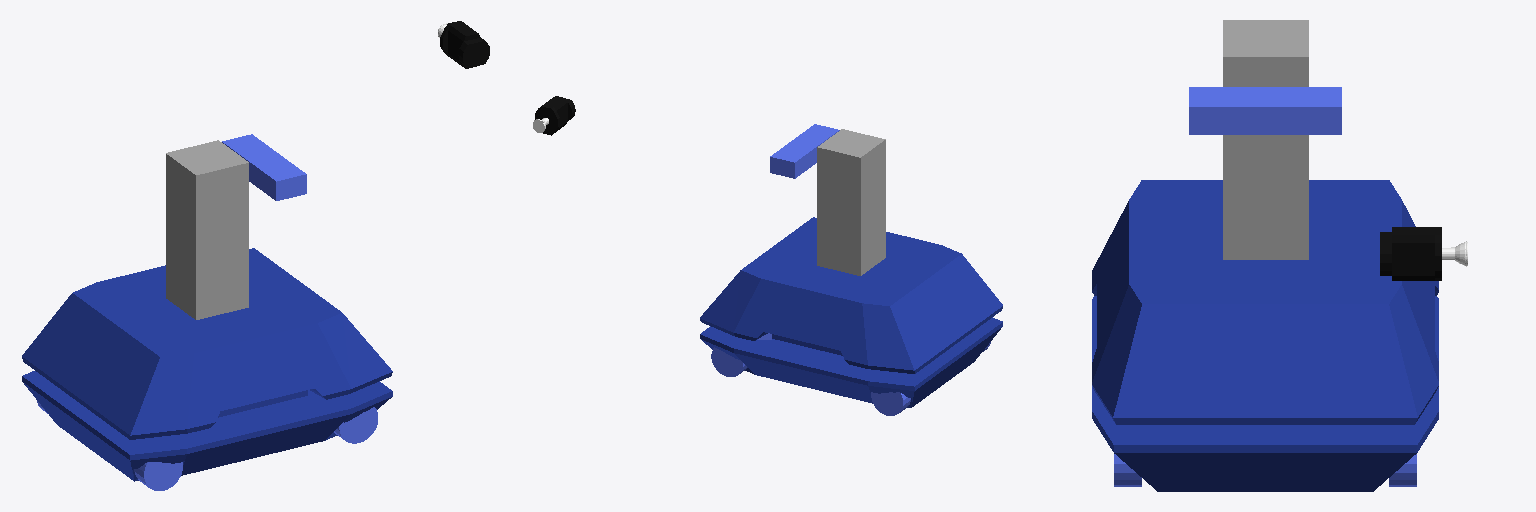
robot.urdf — moma_robot:
<?xml version="1.0" ?>
<!-- =================================================================================== -->
<!-- |    This document was autogenerated by xacro from ./robot/moma_robot.xacro       | -->
<!-- |    EDITING THIS FILE BY HAND IS NOT RECOMMENDED                                 | -->
<!-- =================================================================================== -->
<robot name="moma_robot" xmlns:xacro="http://ros.org/wiki/xacro">
  <material name="Blue">
    <color rgba="0.0 0.0 0.8 1.0"/>
  </material>
  <material name="LightBlue">
    <color rgba="0.4 0.5 1.0 1.0"/>
  </material>
  <material name="DeepBlue">
    <color rgba="0.2 0.3 0.7 1.0"/>
  </material>
  <material name="Green">
    <color rgba="0.0 0.8 0.0 1.0"/>
  </material>
  <material name="Grey">
    <color rgba="0.7 0.7 0.7 1.0"/>
  </material>
  <material name="Grey2">
    <color rgba="0.9 0.9 0.9 1.0"/>
  </material>
  <material name="Red">
    <color rgba="0.8 0.0 0.0 1.0"/>
  </material>
  <material name="White">
    <color rgba="1.0 1.0 1.0 1.0"/>
  </material>
  <material name="Black">
    <color rgba="0.1 0.1 0.1 1.0"/>
  </material>
  <material name="LightGrey">
    <color rgba="0.6 0.6 0.6 1.0"/>
  </material>
  <material name="Caster">
    <texture filename="package://pr2_description/materials/textures/pr2_caster_texture.png"/>
  </material>
  <!-- lidar -->
  <!-- global perception camera - Kinect2 -->
  <!-- Eye in hand - RealSense SR300 -->
  <!-- Inertia parameters -->
  <!-- This mass might be incorrect -->
  <!-- Kinematic model -->
  <!-- Properties from urcontrol.conf -->
  <!--
    DH for UR5:
    a = [0.00000, -0.42500, -0.39225,  0.00000,  0.00000,  0.0000]
    d = [0.089159,  0.00000,  0.00000,  0.10915,  0.09465,  0.0823]
    alpha = [ 1.570796327, 0, 0, 1.570796327, -1.570796327, 0 ]
    q_home_offset = [0, -1.570796327, 0, -1.570796327, 0, 0]
    joint_direction = [-1, -1, 1, 1, 1, 1]
    mass = [3.7000, 8.3930, 2.2750, 1.2190, 1.2190, 0.1879]
    center_of_mass = [ [0, -0.02561, 0.00193], [0.2125, 0, 0.11336], [0.11993, 0.0, 0.0265], [0, -0.0018, 0.01634], [0, 0.0018,0.01634], [0, 0, -0.001159] ]
  -->
  <!-- Arbitrary offsets for shoulder/elbow joints -->
  <!-- measured from model -->
  <!-- measured from model -->
  <!-- link lengths used in model -->
  <!--property name="shoulder_height" value="0.089159" /-->
  <!--property name="shoulder_offset" value="0.13585" /-->
  <!-- shoulder_offset - elbow_offset + wrist_1_length = 0.10915 -->
  <!--property name="upper_arm_length" value="0.42500" /-->
  <!--property name="elbow_offset" value="0.1197" /-->
  <!-- CAD measured -->
  <!--property name="forearm_length" value="0.39225" /-->
  <!--property name="wrist_1_length" value="0.093" /-->
  <!-- CAD measured -->
  <!--property name="wrist_2_length" value="0.09465" /-->
  <!-- In CAD this distance is 0.930, but in the spec it is 0.09465 -->
  <!--property name="wrist_3_length" value="0.0823" /-->
  <!-- manually measured -->
  <!-- manually measured -->
  <!-- manually measured -->
  <!-- manually measured -->
  <!-- manually measured -->
  <!-- lidar -->
  <!-- global perception camera - Kinect2 -->
  <!-- Eye in hand - RealSense SR300 -->
  <!-- <xacro:include filename="$(find ur_description)/urdf/ur5.urdf.xacro" /> -->
  <!-- <xacro:ur5_robot prefix="" joint_limited="false"/> -->
  <!--   <joint name="arm_joint" type="fixed">
  <parent link="moma_base_link" />
  <child link = "base_link" />
  <origin xyz="0.0 0.0 -0.38" rpy="0.0 0.0 0.0" />
</joint> -->
  <link name="base_footprint">
    <visual>
      <geometry>
        <mesh filename="package://robot_bringup/description/meshes/moma_model_mesh/moma_mobile_base_visual.dae"/>
      </geometry>
      <origin rpy="0 0 3.14159265359" xyz="0.0 0.0 0.0"/>
      <material name="DeepBlue"/>
    </visual>
    <collision>
      <geometry>
        <mesh filename="package://robot_bringup/description/meshes/moma_model_mesh/moma_mobile_base_collision.stl"/>
      </geometry>
      <origin rpy="0 0 0" xyz="0.0 0.0 0.0"/>
    </collision>
  </link>
  <joint name="fl_wheel_joint" type="fixed">
    <origin rpy="0 0 0" xyz="0.2575 0.2235 0.06"/>
    <parent link="base_footprint"/>
    <child link="fl_wheel_link"/>
    <axis xyz="0 1 0"/>
  </joint>
  <link name="fl_wheel_link">
    <visual>
      <geometry>
        <mesh filename="package://robot_bringup/description/meshes/moma_model_mesh/moma_wheel_visual.dae"/>
      </geometry>
      <origin rpy="0 0 0" xyz="0.0 0.0 0.0"/>
      <material name="LightBlue"/>
    </visual>
    <collision>
      <geometry>
        <cylinder length="0.045" radius="0.052"/>
      </geometry>
      <origin rpy="1.57079632679 0 0" xyz="0.0 0.0 0.0"/>
    </collision>
  </link>
  <joint name="fr_wheel_joint" type="fixed">
    <origin rpy="0 0 0" xyz="0.2575 -0.2235 0.06"/>
    <parent link="base_footprint"/>
    <child link="fr_wheel_link"/>
    <axis xyz="0 1 0"/>
  </joint>
  <link name="fr_wheel_link">
    <visual>
      <geometry>
        <mesh filename="package://robot_bringup/description/meshes/moma_model_mesh/moma_wheel_visual.dae"/>
      </geometry>
      <origin rpy="0 0 0" xyz="0.0 0.0 0.0"/>
      <material name="LightBlue"/>
    </visual>
    <collision>
      <geometry>
        <cylinder length="0.045" radius="0.052"/>
      </geometry>
      <origin rpy="1.57079632679 0 0" xyz="0.0 0.0 0.0"/>
    </collision>
  </link>
  <joint name="bl_wheel_joint" type="fixed">
    <origin rpy="0 0 0" xyz="-0.2575 0.2235 0.06"/>
    <parent link="base_footprint"/>
    <child link="bl_wheel_link"/>
    <axis xyz="0 1 0"/>
  </joint>
  <link name="bl_wheel_link">
    <visual>
      <geometry>
        <mesh filename="package://robot_bringup/description/meshes/moma_model_mesh/moma_wheel_visual.dae"/>
      </geometry>
      <origin rpy="0 0 0" xyz="0.0 0.0 0.0"/>
      <material name="LightBlue"/>
    </visual>
    <collision>
      <geometry>
        <cylinder length="0.045" radius="0.052"/>
      </geometry>
      <origin rpy="1.57079632679 0 0" xyz="0.0 0.0 0.0"/>
    </collision>
  </link>
  <joint name="br_wheel_joint" type="fixed">
    <origin rpy="0 0 0" xyz="-0.2575 -0.2235 0.06"/>
    <parent link="base_footprint"/>
    <child link="br_wheel_link"/>
    <axis xyz="0 1 0"/>
  </joint>
  <link name="br_wheel_link">
    <visual>
      <geometry>
        <mesh filename="package://robot_bringup/description/meshes/moma_model_mesh/moma_wheel_visual.dae"/>
      </geometry>
      <origin rpy="0 0 0" xyz="0.0 0.0 0.0"/>
      <material name="LightBlue"/>
    </visual>
    <collision>
      <geometry>
        <cylinder length="0.045" radius="0.052"/>
      </geometry>
      <origin rpy="1.57079632679 0 0" xyz="0.0 0.0 0.0"/>
    </collision>
  </link>
  <joint name="F_lidar_joint" type="fixed">
    <parent link="base_footprint"/>
    <child link="F_lidar_link"/>
    <origin rpy="3.14159265359 0.0 0.628318530716" xyz="0.181 0.17285 0.13625"/>
  </joint>
  <link name="F_lidar_link">
    <visual>
      <geometry>
        <box size="0.04 0.04 0.08"/>
      </geometry>
      <origin rpy="0 0 0" xyz="0.0 0.0 0.0"/>
      <material name="LightBlue"/>
    </visual>
    <collision>
      <geometry>
        <box size="0.04 0.04 0.08"/>
      </geometry>
      <origin rpy="0 0 0" xyz="0.0 0.0 0.0"/>
      <material name="LightBlue"/>
    </collision>
  </link>
  <joint name="B_lidar_joint" type="fixed">
    <parent link="base_footprint"/>
    <child link="B_lidar_link"/>
    <origin rpy="3.14159265359 0.0 -2.51327412286" xyz="-0.181 -0.17285 0.13625"/>
  </joint>
  <link name="B_lidar_link">
    <visual>
      <geometry>
        <box size="0.04 0.04 0.08"/>
      </geometry>
      <origin rpy="0 0 0" xyz="0.0 0.0 0.0"/>
      <material name="LightBlue"/>
    </visual>
    <collision>
      <geometry>
        <box size="0.04 0.04 0.08"/>
      </geometry>
      <origin rpy="0 0 0" xyz="0.0 0.0 0.0"/>
      <material name="LightBlue"/>
    </collision>
  </link>
  <joint name="lift_base_joint" type="fixed">
    <parent link="base_footprint"/>
    <child link="lift_fix_link"/>
    <origin rpy="0.0 0.0 0.0" xyz="0.0 0.0 0.318"/>
  </joint>
  <link name="lift_fix_link">
    <visual>
      <geometry>
        <box size="0.10 0.10 0.37"/>
      </geometry>
      <origin rpy="0 0 0" xyz="0.0 0.0 0.185"/>
      <material name="Grey"/>
    </visual>
    <collision>
      <geometry>
        <box size="0.10 0.10 0.37"/>
      </geometry>
      <origin rpy="0 0 0" xyz="0.0 0.0 0.185"/>
    </collision>
  </link>
  <joint name="lift_move_joint" type="prismatic">
    <parent link="lift_fix_link"/>
    <child link="lift_move_link"/>
    <origin rpy="0.0 0.0 0.0" xyz="0.0 0.0 0.0"/>
    <limit effort="250" lower="0.0" upper="0.25" velocity="0.5"/>
    <axis xyz="0 0 1"/>
  </joint>
  <link name="lift_move_link">
    <visual>
      <geometry>
        <box size="0.14 0.14 0.37"/>
      </geometry>
      <origin rpy="0 0 0" xyz="0.0 0.0 0.185"/>
      <material name="Grey"/>
    </visual>
    <collision>
      <geometry>
        <box size="0.14 0.14 0.37"/>
      </geometry>
      <origin rpy="0 0 0" xyz="0.0 0.0 0.185"/>
    </collision>
  </link>
  <joint name="global_camera_joint" type="fixed">
    <parent link="lift_move_link"/>
    <child link="global_camera_link"/>
    <origin rpy="0.0 0.0 0.0" xyz="0.15 0.0 0.31"/>
  </joint>
  <link name="global_camera_link">
    <visual>
      <geometry>
        <box size="0.08 0.25 0.05"/>
      </geometry>
      <origin rpy="0 0 0" xyz="0.0 0.0 0.0"/>
      <material name="LightBlue"/>
    </visual>
    <collision>
      <geometry>
        <box size="0.08 0.25 0.05"/>
      </geometry>
      <origin rpy="0 0 0" xyz="0.0 0.0 0.0"/>
      <material name="LightBlue"/>
    </collision>
  </link>
  <link name="base_link">
    <visual>
      <geometry>
        <mesh filename="package://ur_description/meshes/ur5/visual/base.dae"/>
      </geometry>
      <material name="LightGrey">
        <color rgba="0.7 0.7 0.7 1.0"/>
      </material>
    </visual>
    <collision>
      <geometry>
        <mesh filename="package://ur_description/meshes/ur5/collision/base.stl"/>
      </geometry>
    </collision>
    <inertial>
      <mass value="4.0"/>
      <origin rpy="0 0 0" xyz="0.0 0.0 0.0"/>
      <inertia ixx="0.00443333156" ixy="0.0" ixz="0.0" iyy="0.00443333156" iyz="0.0" izz="0.0072"/>
    </inertial>
  </link>
  <joint name="shoulder_pan_joint" type="revolute">
    <parent link="base_link"/>
    <child link="shoulder_link"/>
    <origin rpy="0.0 0.0 0.0" xyz="0.0 0.0 0.089159"/>
    <axis xyz="0 0 1"/>
    <limit effort="150.0" lower="-6.2831853" upper="6.2831853" velocity="3.15"/>
    <dynamics damping="0.0" friction="0.0"/>
  </joint>
  <link name="shoulder_link">
    <visual>
      <geometry>
        <mesh filename="package://ur_description/meshes/ur5/visual/shoulder.dae"/>
      </geometry>
      <material name="LightGrey">
        <color rgba="0.7 0.7 0.7 1.0"/>
      </material>
    </visual>
    <collision>
      <geometry>
        <mesh filename="package://ur_description/meshes/ur5/collision/shoulder.stl"/>
      </geometry>
    </collision>
    <inertial>
      <mass value="3.7"/>
      <origin rpy="0 0 0" xyz="0.0 0.0 0.0"/>
      <inertia ixx="0.010267495893" ixy="0.0" ixz="0.0" iyy="0.010267495893" iyz="0.0" izz="0.00666"/>
    </inertial>
  </link>
  <joint name="shoulder_lift_joint" type="revolute">
    <parent link="shoulder_link"/>
    <child link="upper_arm_link"/>
    <origin rpy="0.0 1.570796325 0.0" xyz="0.0 0.13585 0.0"/>
    <axis xyz="0 1 0"/>
    <limit effort="150.0" lower="-6.2831853" upper="6.2831853" velocity="3.15"/>
    <dynamics damping="0.0" friction="0.0"/>
  </joint>
  <link name="upper_arm_link">
    <visual>
      <geometry>
        <mesh filename="package://ur_description/meshes/ur5/visual/upperarm.dae"/>
      </geometry>
      <material name="LightGrey">
        <color rgba="0.7 0.7 0.7 1.0"/>
      </material>
    </visual>
    <collision>
      <geometry>
        <mesh filename="package://ur_description/meshes/ur5/collision/upperarm.stl"/>
      </geometry>
    </collision>
    <inertial>
      <mass value="8.393"/>
      <origin rpy="0 0 0" xyz="0.0 0.0 0.28"/>
      <inertia ixx="0.22689067591" ixy="0.0" ixz="0.0" iyy="0.22689067591" iyz="0.0" izz="0.0151074"/>
    </inertial>
  </link>
  <joint name="elbow_joint" type="revolute">
    <parent link="upper_arm_link"/>
    <child link="forearm_link"/>
    <origin rpy="0.0 0.0 0.0" xyz="0.0 -0.1197 0.425"/>
    <axis xyz="0 1 0"/>
    <limit effort="150.0" lower="-6.2831853" upper="6.2831853" velocity="3.15"/>
    <dynamics damping="0.0" friction="0.0"/>
  </joint>
  <link name="forearm_link">
    <visual>
      <geometry>
        <mesh filename="package://ur_description/meshes/ur5/visual/forearm.dae"/>
      </geometry>
      <material name="LightGrey">
        <color rgba="0.7 0.7 0.7 1.0"/>
      </material>
    </visual>
    <collision>
      <geometry>
        <mesh filename="package://ur_description/meshes/ur5/collision/forearm.stl"/>
      </geometry>
    </collision>
    <inertial>
      <mass value="2.275"/>
      <origin rpy="0 0 0" xyz="0.0 0.0 0.25"/>
      <inertia ixx="0.049443313556" ixy="0.0" ixz="0.0" iyy="0.049443313556" iyz="0.0" izz="0.004095"/>
    </inertial>
  </link>
  <joint name="wrist_1_joint" type="revolute">
    <parent link="forearm_link"/>
    <child link="wrist_1_link"/>
    <origin rpy="0.0 1.570796325 0.0" xyz="0.0 0.0 0.39225"/>
    <axis xyz="0 1 0"/>
    <limit effort="28.0" lower="-6.2831853" upper="6.2831853" velocity="3.2"/>
    <dynamics damping="0.0" friction="0.0"/>
  </joint>
  <link name="wrist_1_link">
    <visual>
      <geometry>
        <mesh filename="package://ur_description/meshes/ur5/visual/wrist1.dae"/>
      </geometry>
      <material name="LightGrey">
        <color rgba="0.7 0.7 0.7 1.0"/>
      </material>
    </visual>
    <collision>
      <geometry>
        <mesh filename="package://ur_description/meshes/ur5/collision/wrist1.stl"/>
      </geometry>
    </collision>
    <inertial>
      <mass value="1.219"/>
      <origin rpy="0 0 0" xyz="0.0 0.0 0.0"/>
      <inertia ixx="0.111172755531" ixy="0.0" ixz="0.0" iyy="0.111172755531" iyz="0.0" izz="0.21942"/>
    </inertial>
  </link>
  <joint name="wrist_2_joint" type="revolute">
    <parent link="wrist_1_link"/>
    <child link="wrist_2_link"/>
    <origin rpy="0.0 0.0 0.0" xyz="0.0 0.093 0.0"/>
    <axis xyz="0 0 1"/>
    <limit effort="28.0" lower="-6.2831853" upper="6.2831853" velocity="3.2"/>
    <dynamics damping="0.0" friction="0.0"/>
  </joint>
  <link name="wrist_2_link">
    <visual>
      <geometry>
        <mesh filename="package://ur_description/meshes/ur5/visual/wrist2.dae"/>
      </geometry>
      <material name="LightGrey">
        <color rgba="0.7 0.7 0.7 1.0"/>
      </material>
    </visual>
    <collision>
      <geometry>
        <mesh filename="package://ur_description/meshes/ur5/collision/wrist2.stl"/>
      </geometry>
    </collision>
    <inertial>
      <mass value="1.219"/>
      <origin rpy="0 0 0" xyz="0.0 0.0 0.0"/>
      <inertia ixx="0.111172755531" ixy="0.0" ixz="0.0" iyy="0.111172755531" iyz="0.0" izz="0.21942"/>
    </inertial>
  </link>
  <joint name="wrist_3_joint" type="revolute">
    <parent link="wrist_2_link"/>
    <child link="wrist_3_link"/>
    <origin rpy="0.0 0.0 0.0" xyz="0.0 0.0 0.09465"/>
    <axis xyz="0 1 0"/>
    <limit effort="28.0" lower="-6.2831853" upper="6.2831853" velocity="3.2"/>
    <dynamics damping="0.0" friction="0.0"/>
  </joint>
  <link name="wrist_3_link">
    <visual>
      <geometry>
        <mesh filename="package://ur_description/meshes/ur5/visual/wrist3.dae"/>
      </geometry>
      <material name="LightGrey">
        <color rgba="0.7 0.7 0.7 1.0"/>
      </material>
    </visual>
    <collision>
      <geometry>
        <mesh filename="package://ur_description/meshes/ur5/collision/wrist3.stl"/>
      </geometry>
    </collision>
    <inertial>
      <mass value="0.1879"/>
      <origin rpy="0 0 0" xyz="0.0 0.0 0.0"/>
      <inertia ixx="0.0171364731454" ixy="0.0" ixz="0.0" iyy="0.0171364731454" iyz="0.0" izz="0.033822"/>
    </inertial>
  </link>
  <joint name="ee_fixed_joint" type="fixed">
    <parent link="wrist_3_link"/>
    <child link="ee_link"/>
    <origin rpy="0.0 0.0 1.570796325" xyz="0.0 0.0823 0.0"/>
  </joint>
  <link name="ee_link">
    <collision>
      <geometry>
        <box size="0.01 0.01 0.01"/>
      </geometry>
      <origin rpy="0 0 0" xyz="-0.01 0 0"/>
    </collision>
  </link>
  <transmission name="shoulder_pan_trans">
    <type>transmission_interface/SimpleTransmission</type>
    <joint name="shoulder_pan_joint">
      <hardwareInterface>PositionJointInterface</hardwareInterface>
    </joint>
    <actuator name="shoulder_pan_motor">
      <mechanicalReduction>1</mechanicalReduction>
    </actuator>
  </transmission>
  <transmission name="shoulder_lift_trans">
    <type>transmission_interface/SimpleTransmission</type>
    <joint name="shoulder_lift_joint">
      <hardwareInterface>PositionJointInterface</hardwareInterface>
    </joint>
    <actuator name="shoulder_lift_motor">
      <mechanicalReduction>1</mechanicalReduction>
    </actuator>
  </transmission>
  <transmission name="elbow_trans">
    <type>transmission_interface/SimpleTransmission</type>
    <joint name="elbow_joint">
      <hardwareInterface>PositionJointInterface</hardwareInterface>
    </joint>
    <actuator name="elbow_motor">
      <mechanicalReduction>1</mechanicalReduction>
    </actuator>
  </transmission>
  <transmission name="wrist_1_trans">
    <type>transmission_interface/SimpleTransmission</type>
    <joint name="wrist_1_joint">
      <hardwareInterface>PositionJointInterface</hardwareInterface>
    </joint>
    <actuator name="wrist_1_motor">
      <mechanicalReduction>1</mechanicalReduction>
    </actuator>
  </transmission>
  <transmission name="wrist_2_trans">
    <type>transmission_interface/SimpleTransmission</type>
    <joint name="wrist_2_joint">
      <hardwareInterface>PositionJointInterface</hardwareInterface>
    </joint>
    <actuator name="wrist_2_motor">
      <mechanicalReduction>1</mechanicalReduction>
    </actuator>
  </transmission>
  <transmission name="wrist_3_trans">
    <type>transmission_interface/SimpleTransmission</type>
    <joint name="wrist_3_joint">
      <hardwareInterface>PositionJointInterface</hardwareInterface>
    </joint>
    <actuator name="wrist_3_motor">
      <mechanicalReduction>1</mechanicalReduction>
    </actuator>
  </transmission>


  <link name="tool0"/>
  <joint name="wrist_3_link-tool0_fixed_joint" type="fixed">
    <origin rpy="-1.570796325 0 0" xyz="0 0.0823 0"/>
    <parent link="wrist_3_link"/>
    <child link="tool0"/>
  </joint>


  <!-- ========== Add epick here ========== -->

  <joint name="epick_link-tool0_fixed_joint" type="fixed">
    <origin rpy="0 0 0" xyz="0 0 -0.005"/>
    <!-- <origin rpy="0 0 0" xyz="0 0 0.01"/> -->
    <!-- <origin rpy="0 0 0" xyz="0 0 -0.01"/> -->
    <parent link="tool0"/>
    <child link="epick_link"/>
  </joint>

  <link name="epick_link">
    <visual>
      <geometry>
        <!-- <box size="0.060 0.083 0.10"/> -->
        <mesh filename="package://robot_bringup/description/epick_model/epick_base.stl" scale="1 1 1"/>
      </geometry>
      <origin rpy="0 0 0" xyz="0.0 0.0 0.0"/>
      <material name="Black"/>
    </visual>
    <collision>
      <geometry>
        <!-- <box size="0.060 0.083 0.10"/> -->
        <mesh filename="package://robot_bringup/description/epick_model/epick_base.stl" scale="1 1 1"/>
      </geometry>
      <origin rpy="0 0 0" xyz="0.0 0.0 0.0"/>
      <material name="Black"/>
    </collision>
  </link>

  <joint name="epick_2_link-epick_joint" type="fixed">
    <origin rpy="0 0 0" xyz="0 0 0.101"/>
    <!-- <origin rpy="0 0 0" xyz="0 0 0.091"/> -->
    <parent link="epick_link"/>
    <child link="epick_2_link"/>
  </joint>

  <link name="epick_2_link">
    <visual>
      <geometry>
        <!-- <cylinder length="0.03" radius="0.02"/> -->
        <mesh filename="package://robot_bringup/description/epick_model/epick_vacuum.stl" scale="1 1 1"/>
      </geometry>
      <origin rpy="0 0 0" xyz="0.0 0.0 0"/>
      <material name="White"/>
    </visual>
        <!-- <cylinder length="0.03" radius="0.02"/> -->
  </link>

  <joint name="gripper_ee_link-epick_2_joint" type="fixed">
    <origin rpy="0 0 0" xyz="0 0 0.04"/>
    <parent link="epick_2_link"/>
    <child link="gripper_ee_link"/>
  </joint>

  <link name="gripper_ee_link">
    <visual>
      <geometry>
        <cylinder length="0.005" radius="0.02"/>
      </geometry>
      <origin rpy="0 0 0" xyz="0.0 0.0 0"/>
      <material name="White"/>
    </visual>
  </link>
  
  <!-- ========== Add epick over ========== -->

  <joint name="arm_lift_joint" type="fixed">
    <parent link="lift_move_link"/>
    <child link="base_link"/>
    <origin rpy="0.0 0.0 0.0" xyz="0.0 0.0 0.37"/>
  </joint>


 </robot>

--- What the picture shows (computed from the rendered views, not written in the file) ---
3 views of the same robot in one strip: view 1: azimuth 30°, elevation 25°; view 2: azimuth 150°, elevation 25°; view 3: azimuth 270°, elevation 25° (orthographic).
Model moma_robot with 22 links and 21 joints (6 revolute, 1 prismatic, 14 fixed), rooted at base_footprint, posed all joints at 0.
Links seen in each view (by area): view 1: base_footprint, lift_move_link, global_camera_link, epick_link, br_wheel_link, fr_wheel_link, lift_fix_link; view 2: base_footprint, lift_move_link, global_camera_link, epick_link, bl_wheel_link, fl_wheel_link; view 3: base_footprint, lift_move_link, global_camera_link, epick_link, lift_fix_link, fr_wheel_link, fl_wheel_link.
Link boxes in pixels (x1,y1,x2,y2): base_footprint: [22, 248, 392, 481]; lift_move_link: [166, 140, 248, 319]; global_camera_link: [222, 134, 306, 200]; epick_link: [440, 21, 489, 68]; br_wheel_link: [134, 462, 182, 490]; fr_wheel_link: [334, 407, 377, 443]; lift_fix_link: [183, 145, 235, 169]; base_footprint: [700, 217, 1002, 407]; lift_move_link: [817, 129, 885, 275]; global_camera_link: [770, 124, 839, 178]; epick_link: [535, 96, 575, 135]; bl_wheel_link: [871, 392, 910, 415]; fl_wheel_link: [711, 347, 747, 376]; base_footprint: [1092, 180, 1438, 491]; lift_move_link: [1223, 20, 1308, 259]; global_camera_link: [1189, 87, 1341, 134]; epick_link: [1380, 227, 1441, 280]; lift_fix_link: [1235, 26, 1295, 51]; fr_wheel_link: [1114, 454, 1141, 486]; fl_wheel_link: [1389, 454, 1416, 486].
Size in the robot's own frame: 1.2 by 0.613 by 0.7153 metres.
7 mesh visuals loaded from 11 distinct referenced files (2 binary STL, 2 Collada DAE); not drawn: 7 (reference not matched to a file when rendering).